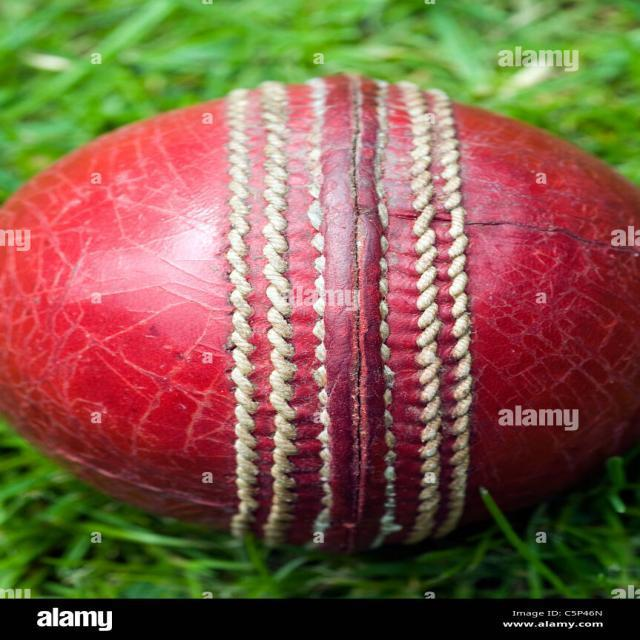cricket ball: (1, 73, 639, 549)
